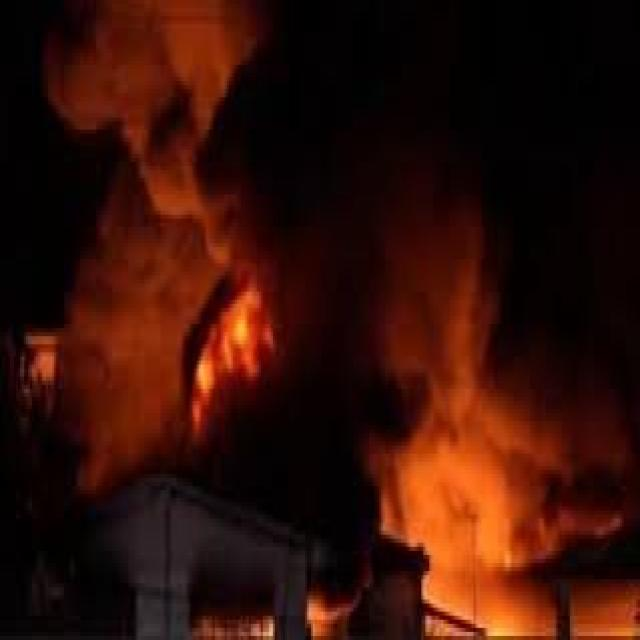Fire: (178, 268, 276, 433)
Smoke: (50, 0, 520, 572)
